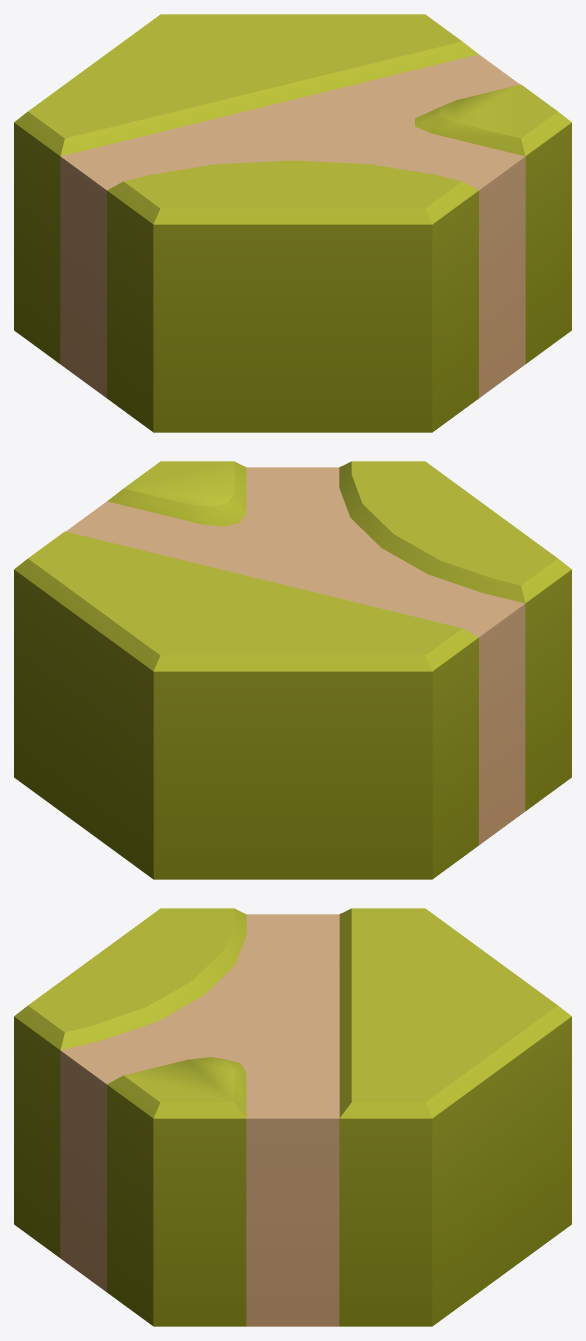
The model's file is hex_road_F.glb.
3 renders of one model, top to bottom at view 1: azimuth 30°, elevation 25°; view 2: azimuth 150°, elevation 25°; view 3: azimuth 270°, elevation 25°, orthographic.
Parts seen in each view (by area): view 1: hex_road_F; view 2: hex_road_F; view 3: hex_road_F.
Part boxes in pixels (x1,y1,x2,y2): hex_road_F: [14, 14, 571, 432]; hex_road_F: [14, 461, 571, 879]; hex_road_F: [14, 908, 571, 1326].
Bounding box in the file's own units: 2 × 1 × 2.31.
Materials: 1 (1 with a texture image).
